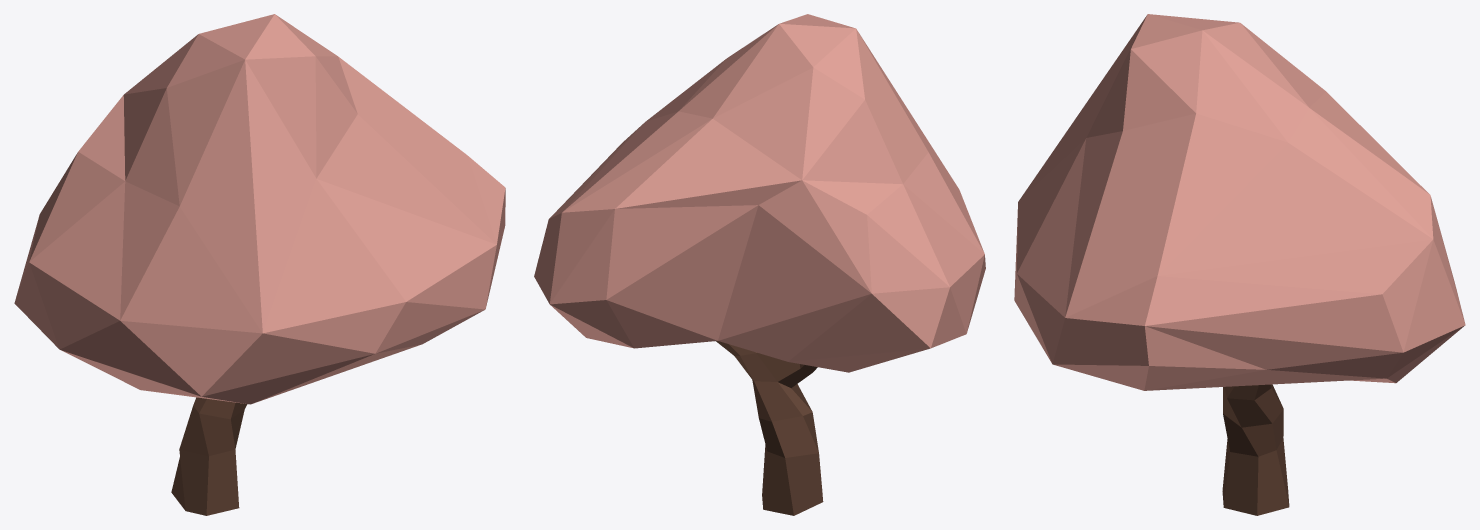
Rendered from Tree7.fbx.
The picture shows the model from 3 angles, left to right: view 1: azimuth 30°, elevation 25°; view 2: azimuth 150°, elevation 25°; view 3: azimuth 270°, elevation 25°; orthographic projection. The views are drawn at different scales.
Parts seen in each view (by area): view 1: Icosphere.002, Cylinder.001; view 2: Icosphere.002, Cylinder.001; view 3: Icosphere.002, Cylinder.001.
Boxes of the visible parts, x1,y1,x2,y2 form: Icosphere.002: [14, 14, 505, 404]; Cylinder.001: [171, 397, 247, 515]; Icosphere.002: [534, 14, 985, 372]; Cylinder.001: [716, 341, 823, 515]; Icosphere.002: [1014, 14, 1465, 390]; Cylinder.001: [1222, 384, 1289, 515].
Bounding box in the file's own units: 160 × 180 × 151.
